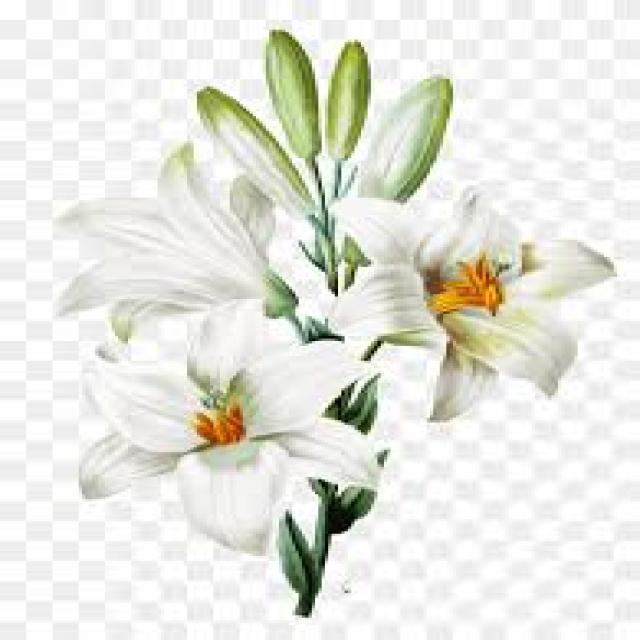lily: (308, 177, 640, 405)
